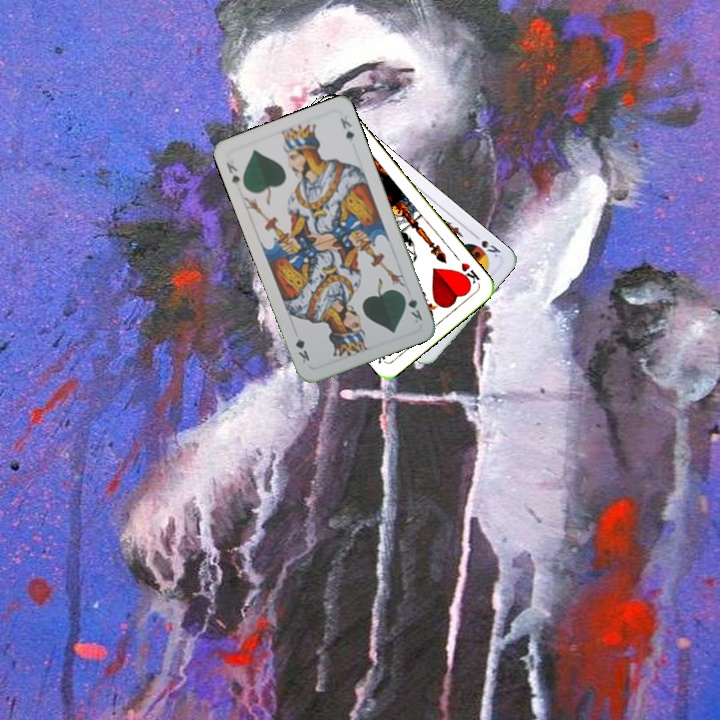GK: (399, 289, 425, 326), (222, 159, 243, 189)
HK: (452, 252, 482, 289)
SK: (469, 229, 503, 260)
